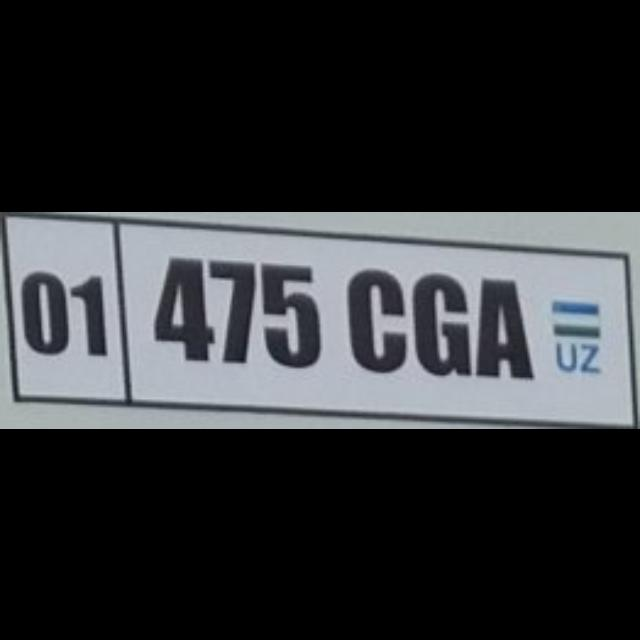0: (20, 268, 66, 350)
1: (66, 272, 104, 352)
4: (152, 252, 212, 358)
5: (256, 260, 318, 364)
7: (208, 258, 254, 360)
A: (473, 275, 532, 375)
C: (344, 264, 404, 368)
G: (410, 270, 470, 374)
